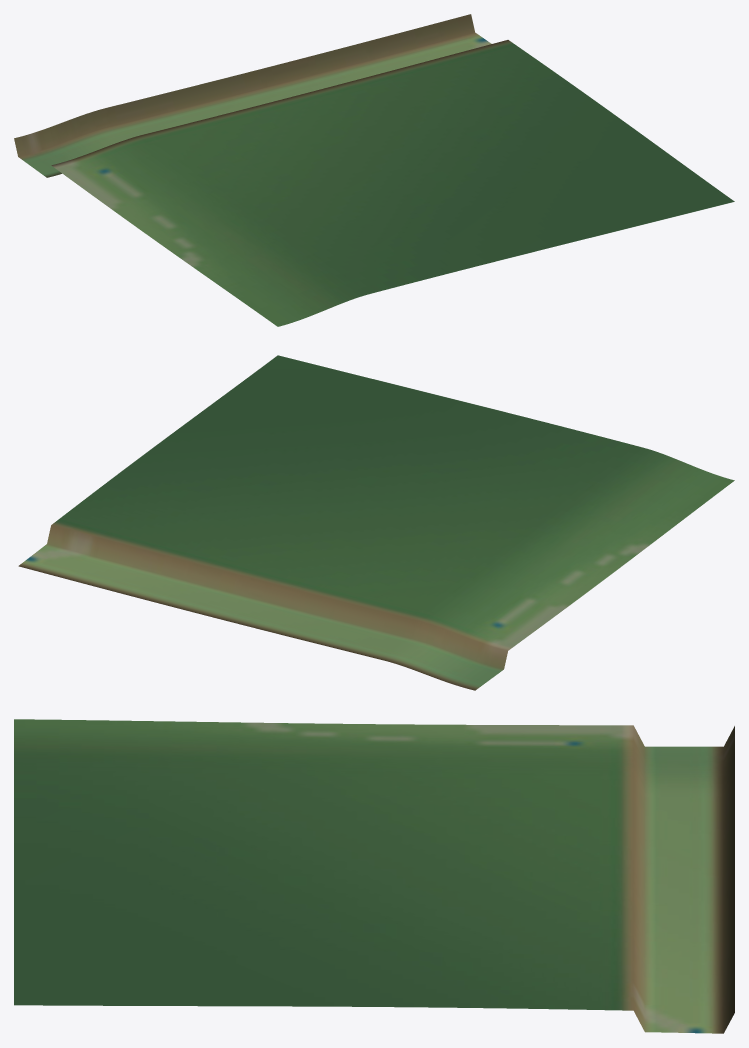
File: terrain_T_E04_S02.glb
3 views of the same model, one above another, from view 1: azimuth 30°, elevation 25°; view 2: azimuth 150°, elevation 25°; view 3: azimuth 270°, elevation 25° (orthographic). The views are drawn at different scales.
Parts seen in each view (by area): view 1: Terrain_T_E04_S02; view 2: Terrain_T_E04_S02; view 3: Terrain_T_E04_S02.
Part boxes in pixels (<box>): Terrain_T_E04_S02: <box>14,14,734,326</box>; Terrain_T_E04_S02: <box>18,355,734,690</box>; Terrain_T_E04_S02: <box>14,719,734,1033</box>.
Bounding box in the file's own units: 2000 × 141 × 2000.
Materials: 1 (1 with a texture image).
